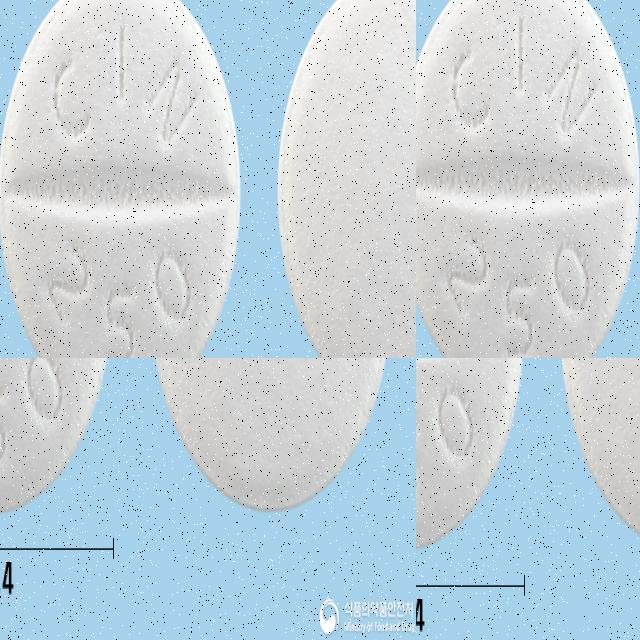CTcin: (416, 358, 526, 557), (558, 358, 640, 553)
Cefac Cap: (87, 287, 377, 358)
Ciproctan - 500mg: (0, 358, 227, 640)
Dentistar Cap: (455, 261, 640, 358)
